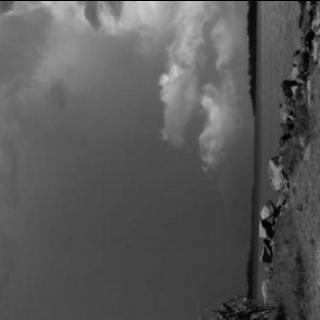Cumulonimbus: (0, 0, 249, 320)
